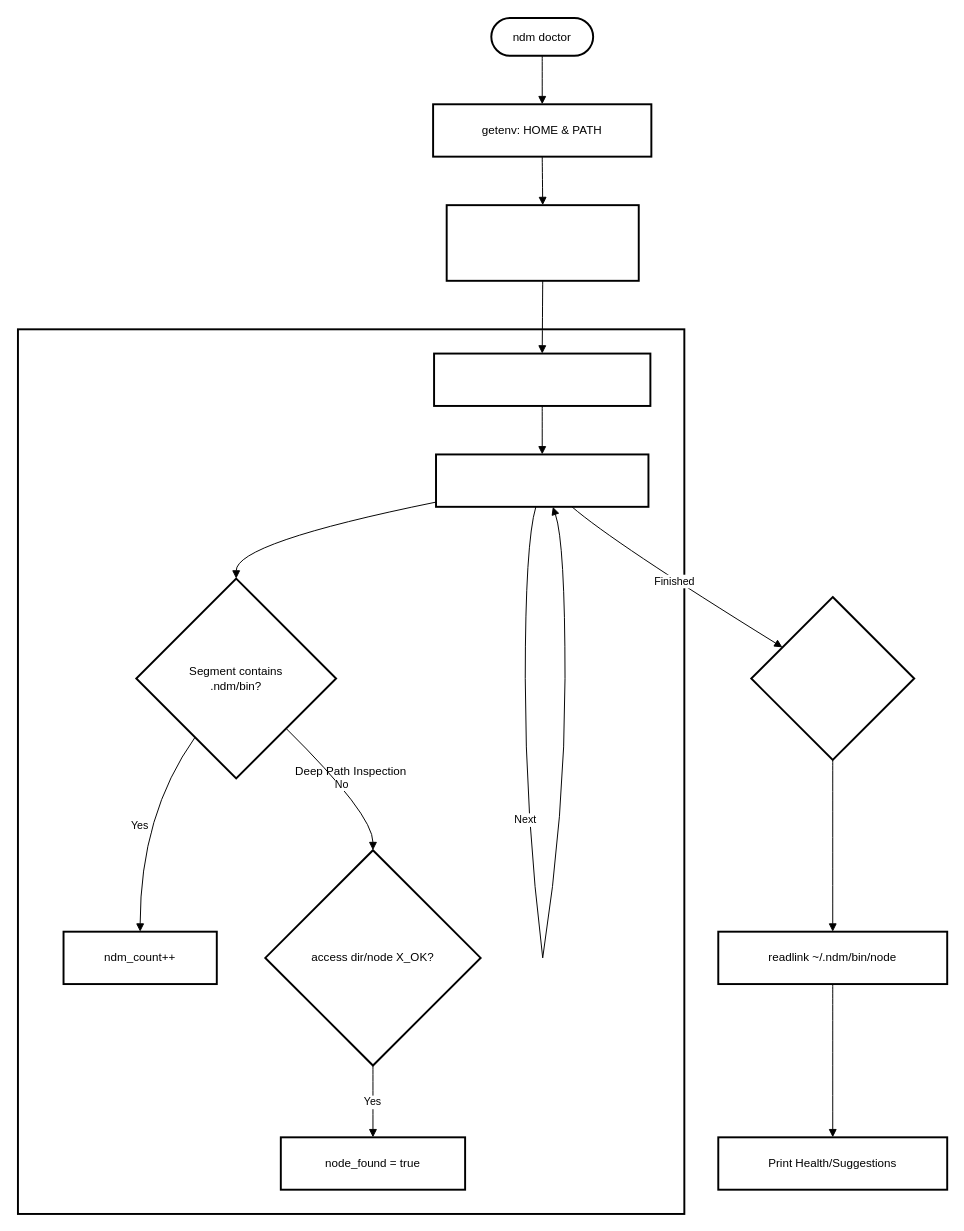
Image size: 964x1231. Some labels were removed from this diagram. Each missing label, with the centre of its shape:
"Iterate Path Segments" goes at (542,480).
"Read ~/.ndm/active via open_file" goes at (542,242).
"strdup PATH & strtok ':'" goes at (542,379).
"Validate Results" goes at (832,678).
